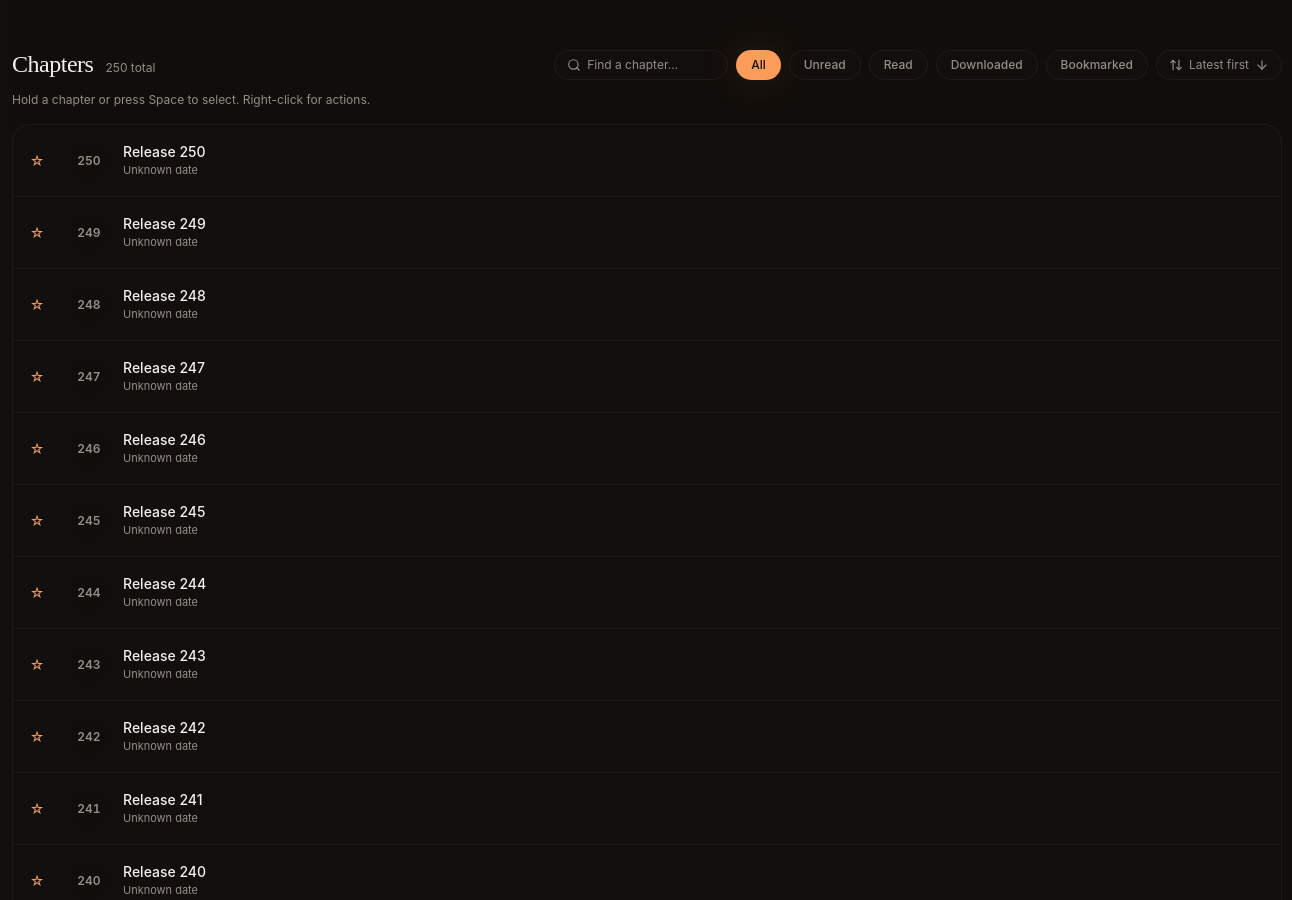
Source chapter filters › bounds mounted rows and clears search without a reset filters action
Type "Release 250" into the field labelled "Find a chapter" at (651, 65), box [587,57,715,73]
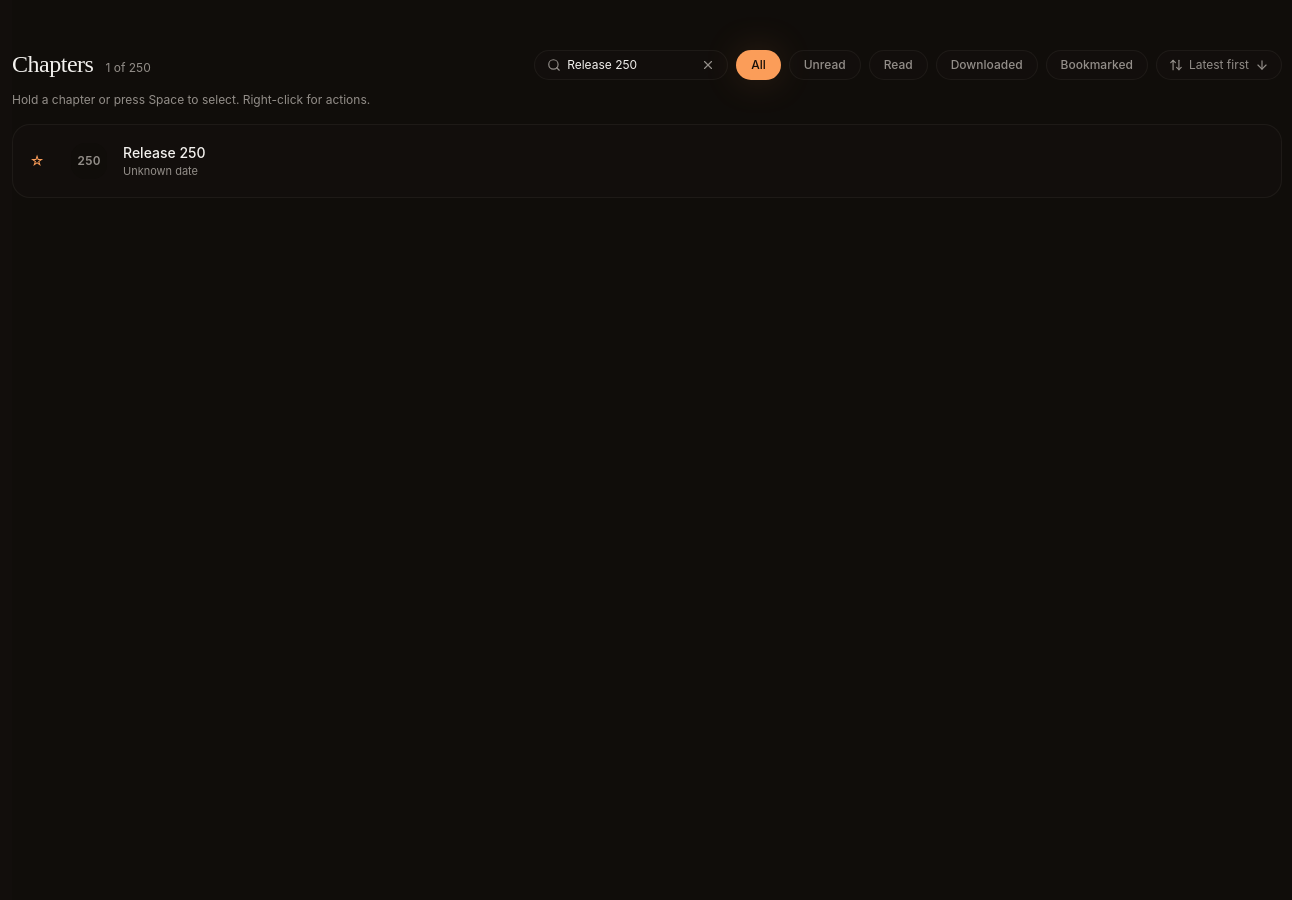
Expected: the number of links is 1, [71,143,206,179]
Click the button named "Clear search" at (708, 65), box [701,58,715,72]
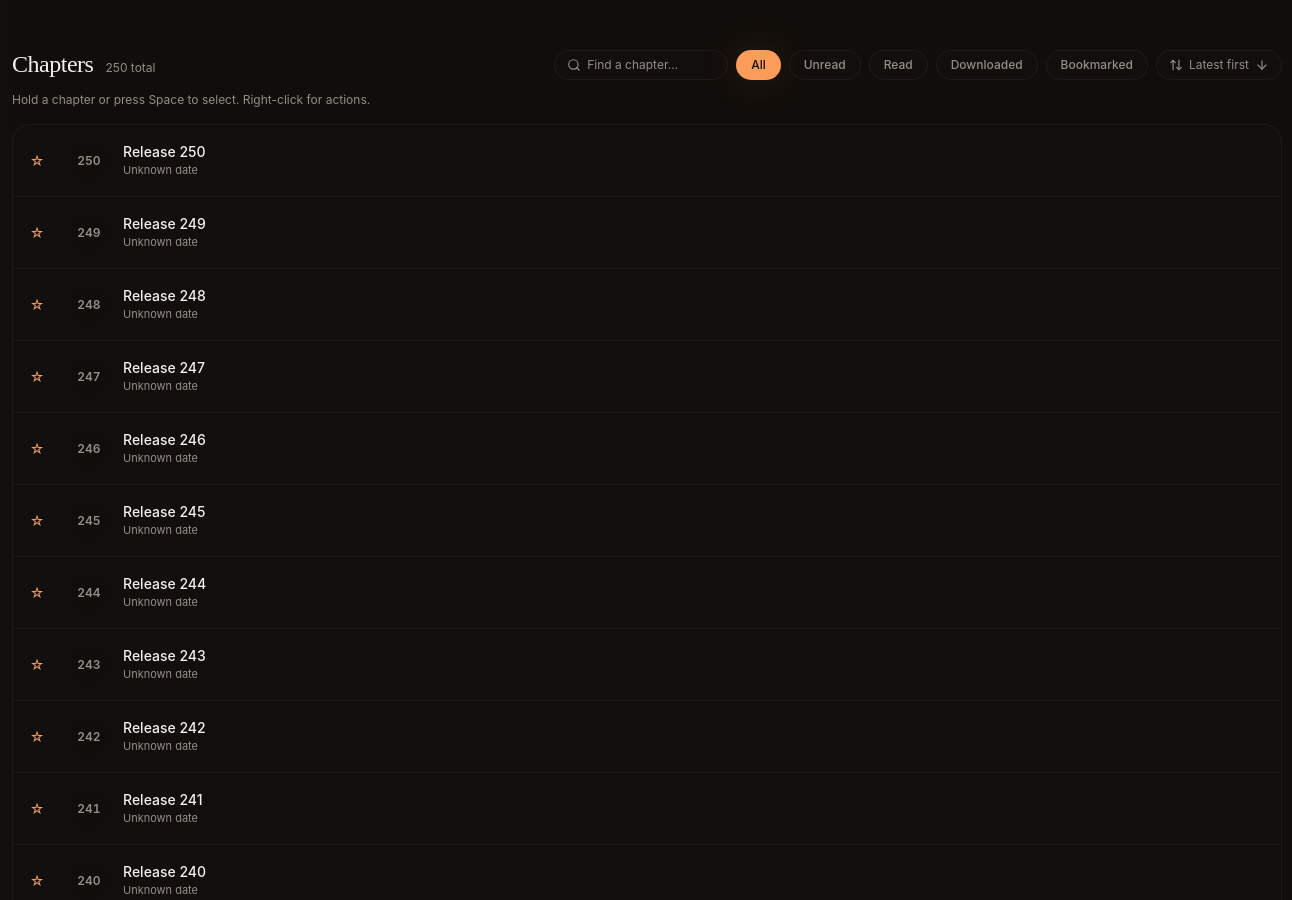
Expected: the field labelled "Find a chapter" is empty, [587,57,715,73]
